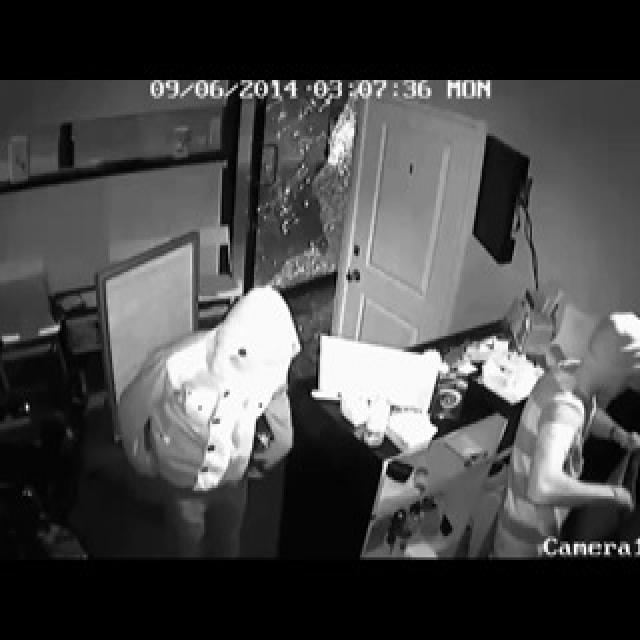thief: (133, 306, 330, 526)
